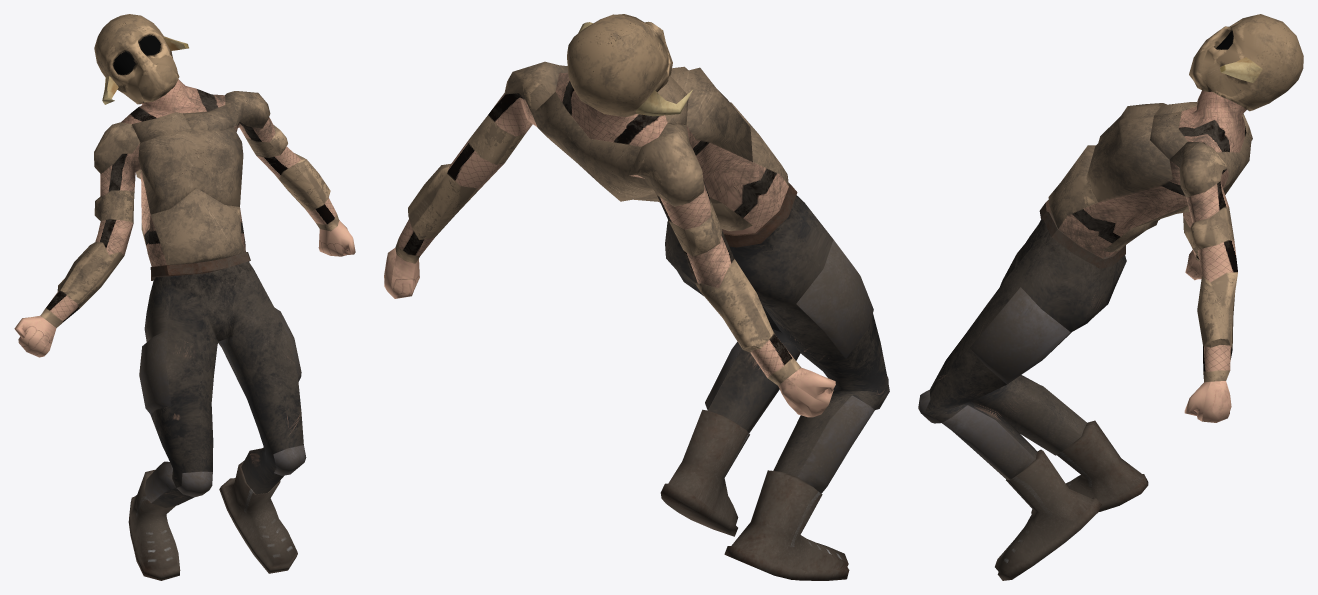
Rendered from Anim_morir_npc1.0023.obj.
3 renders of one model, left to right at view 1: azimuth 30°, elevation 25°; view 2: azimuth 150°, elevation 25°; view 3: azimuth 270°, elevation 25°, orthographic. The views are drawn at different scales.
Parts seen in each view (by area): view 1: NPC2; view 2: NPC2; view 3: NPC2.
Part boxes in pixels (box(x1,y1,x2,y2)): NPC2: box(14, 14, 355, 580); NPC2: box(384, 14, 889, 580); NPC2: box(918, 14, 1303, 580).
Size of the model in its own units: 5.65 by 7.66 by 4.98.
